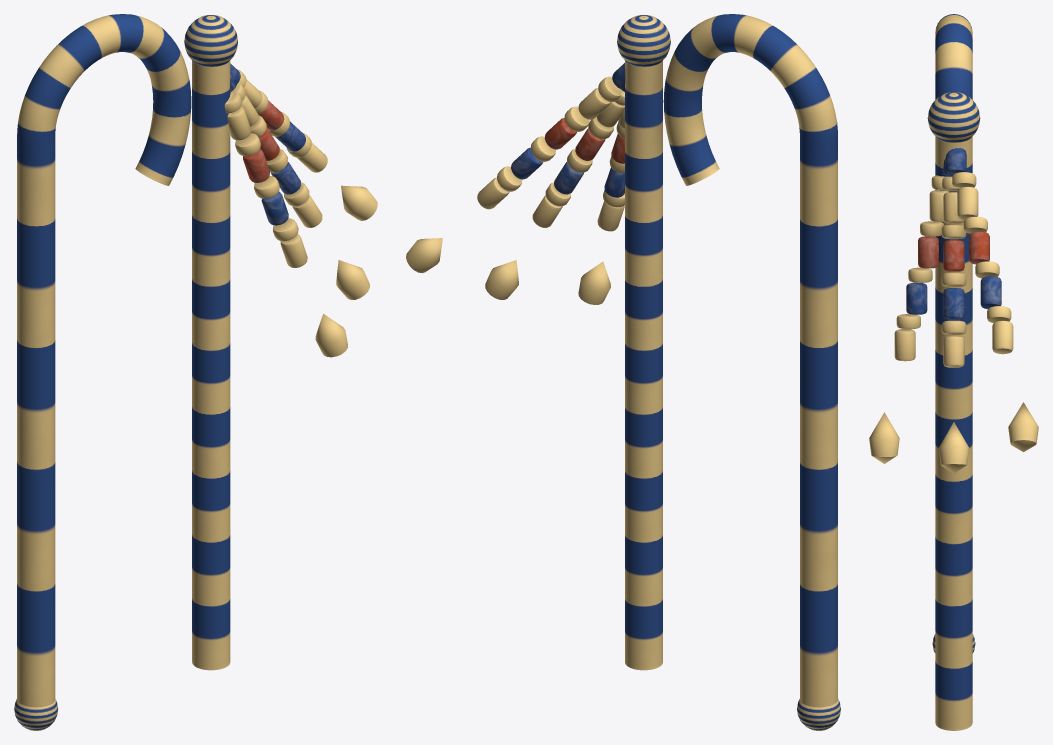
Rendered from crook_and_flail.glb.
3 views of the same model, side by side, from view 1: azimuth 30°, elevation 25°; view 2: azimuth 150°, elevation 25°; view 3: azimuth 270°, elevation 25° (orthographic). The views are drawn at different scales.
Visible parts, largest first — view 1: crook_and_flail; view 2: crook_and_flail; view 3: crook_and_flail.
Boxes of the visible parts, x1,y1,x2,y2 form: crook_and_flail: (14,14,377,730); crook_and_flail: (406,14,840,730); crook_and_flail: (869,14,1038,730).
Size of the model in its own units: 0.2027 by 0.3409 by 0.0775.
1 material, 1 textured.
